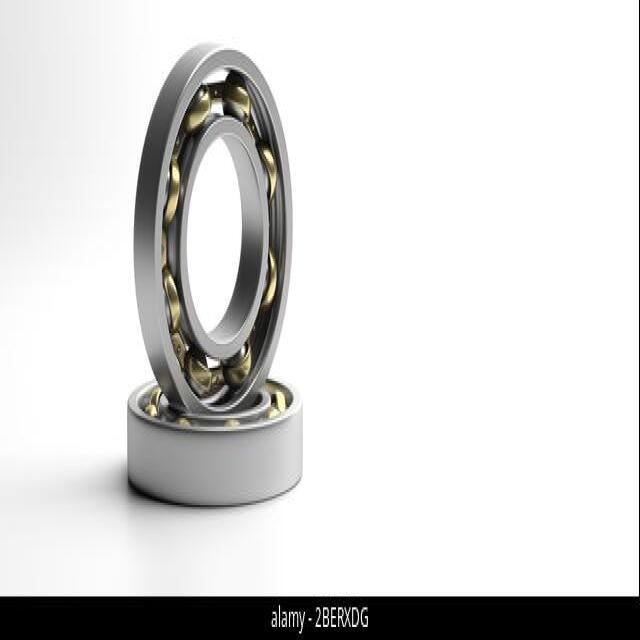Bearing: (132, 31, 294, 413), (126, 372, 304, 513)
